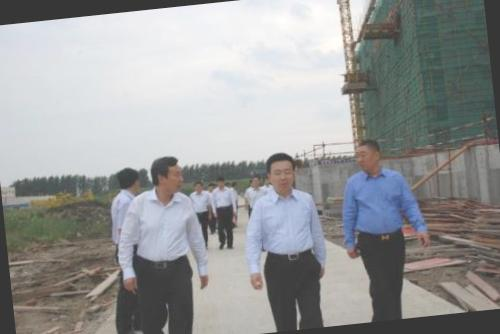no_helmet: (262, 149, 300, 194), (149, 153, 186, 198), (350, 134, 388, 175), (112, 165, 145, 200), (247, 173, 262, 188), (214, 174, 228, 190), (192, 178, 204, 194)
